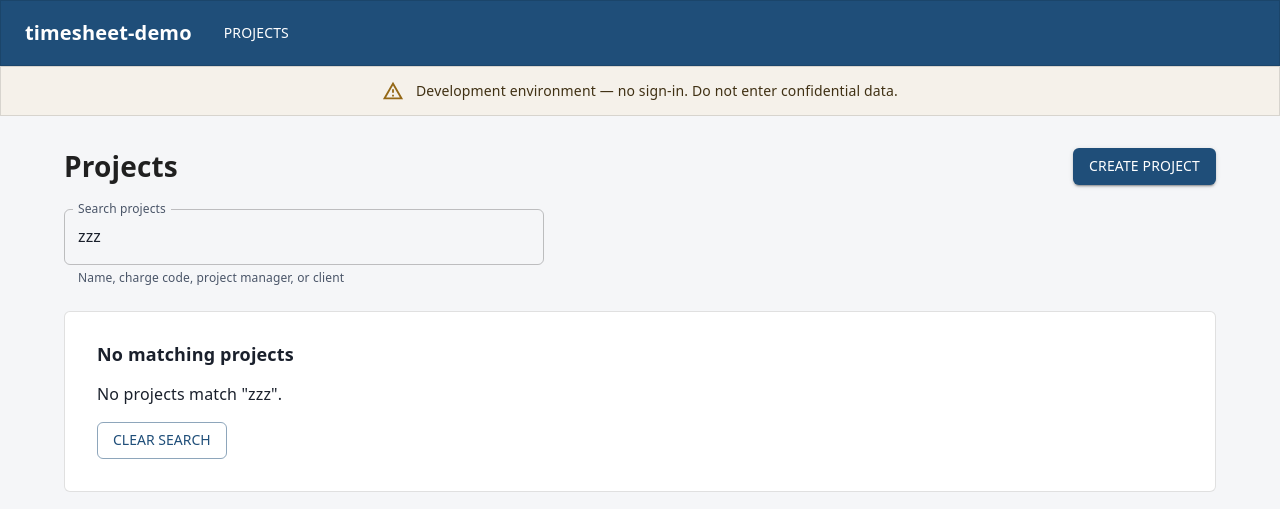
Test: ProjectListPage › shows "No matching projects" with Clear search when a search has no results
This screenshot has width=1280, height=509.
Expected: the heading "No matching projects" is shown, x1=97 y1=344 x2=294 y2=366
Click the button "Clear search" at (162, 440), box x1=97 y1=422 x2=227 y2=458
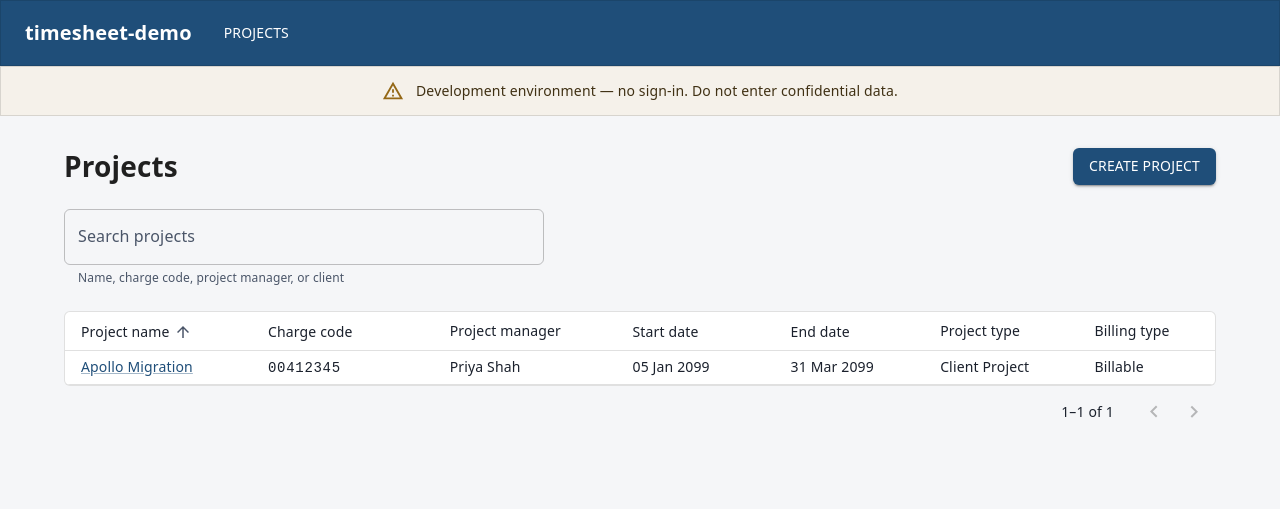
Expected: the link "Apollo Migration" is shown, x1=81 y1=357 x2=193 y2=376
Expected: the search field labelled "Search projects" is empty, x1=64 y1=208 x2=544 y2=264
